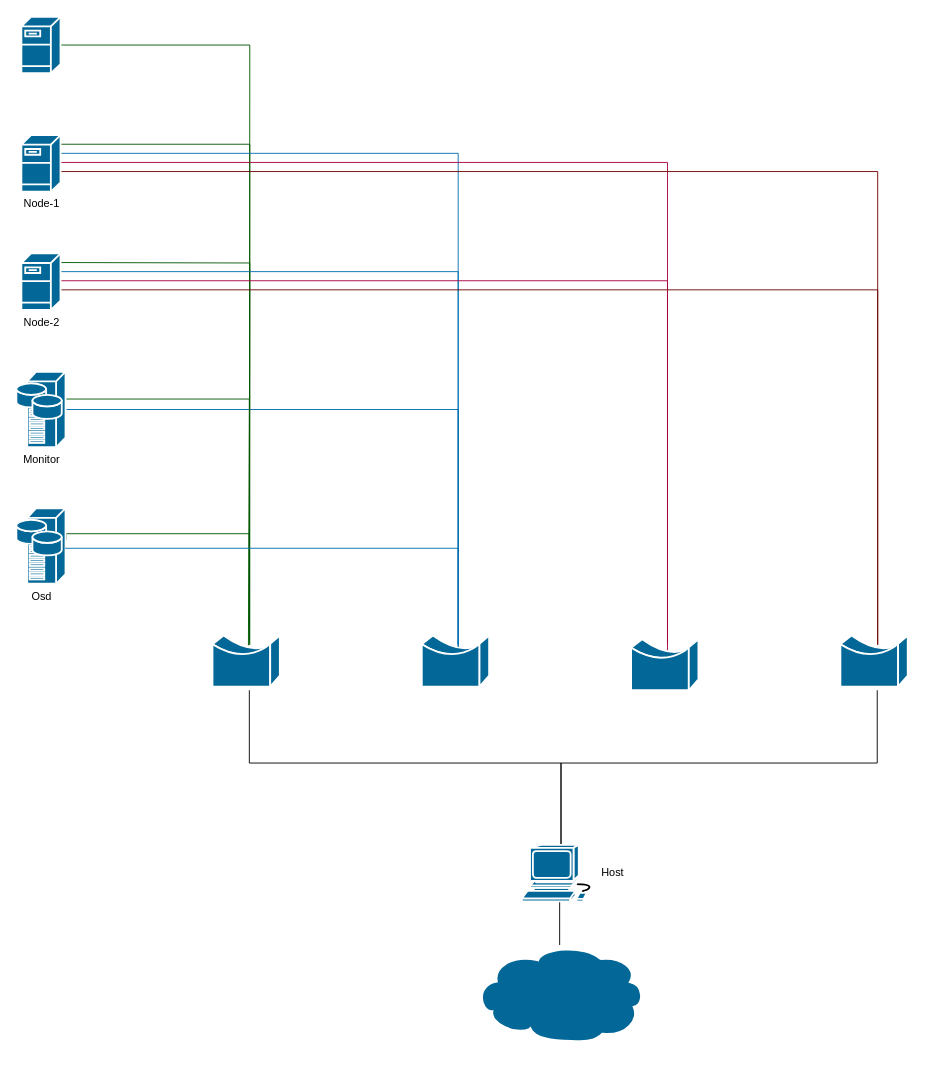
This 925x1076 diagram has some shape labels left out. The shapes that lost their labels are listed below. From the top down, each one's centre as x and y in pixels, then its label:
At (x=40, y=44): "Controller".
At (x=559, y=993): "Internet".
